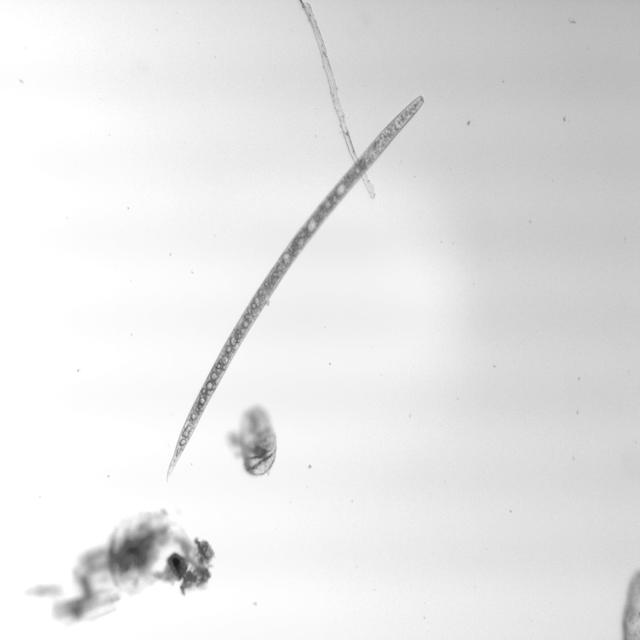Radopholus: (164, 89, 428, 485)
